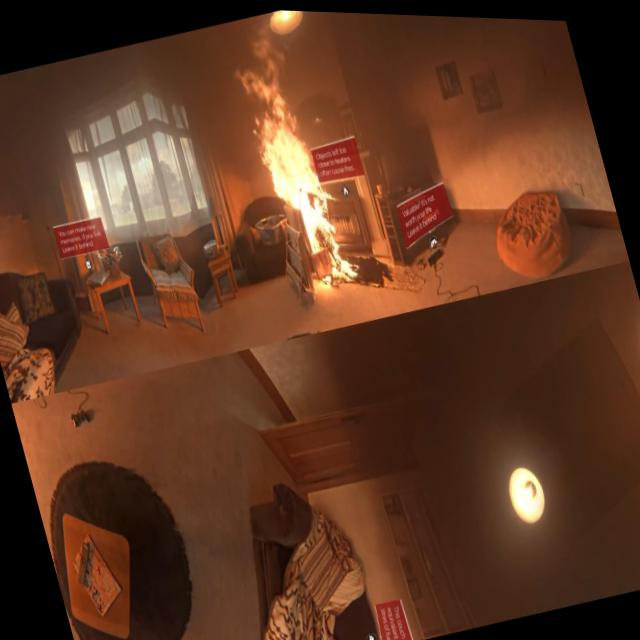fire: (228, 32, 364, 299)
